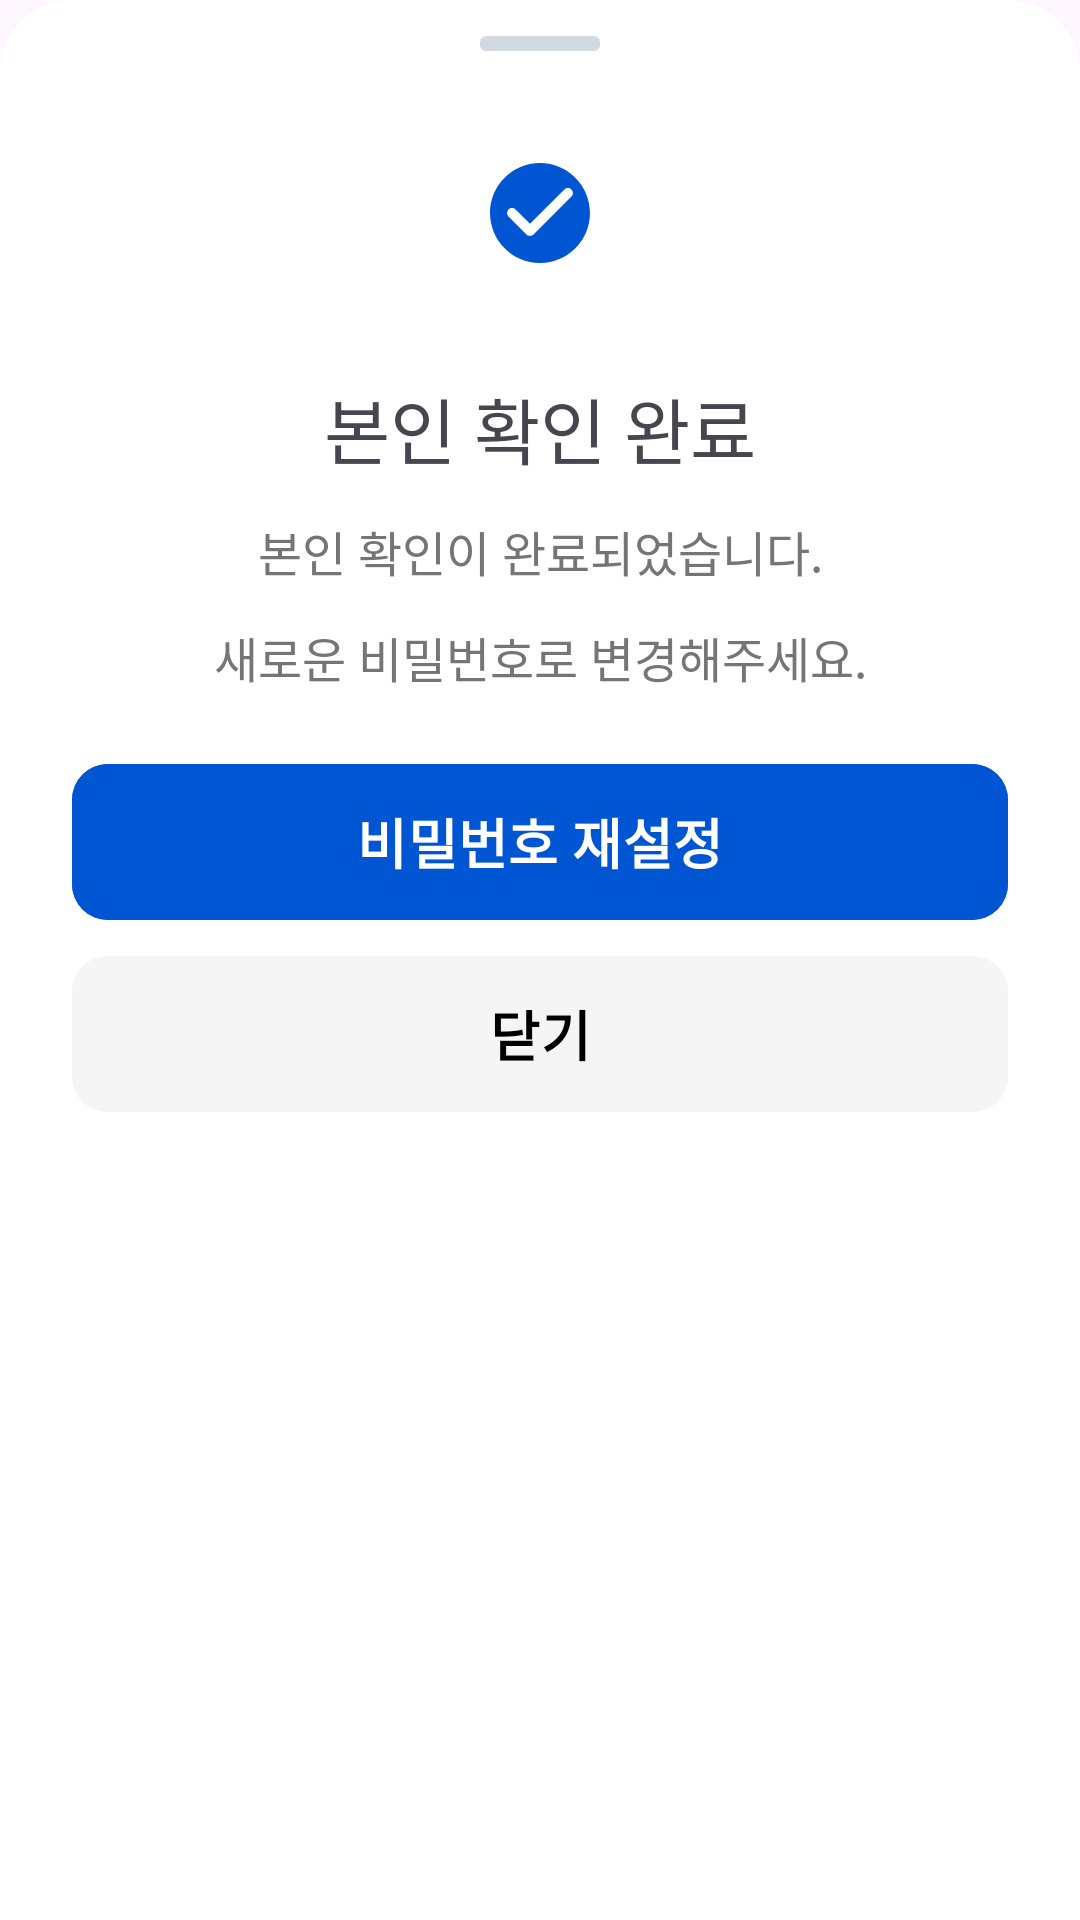

Named icons in this screenshot (1080px x 1920px) and their centers, (x=x, y=y):
check circle: (x=540, y=213)
